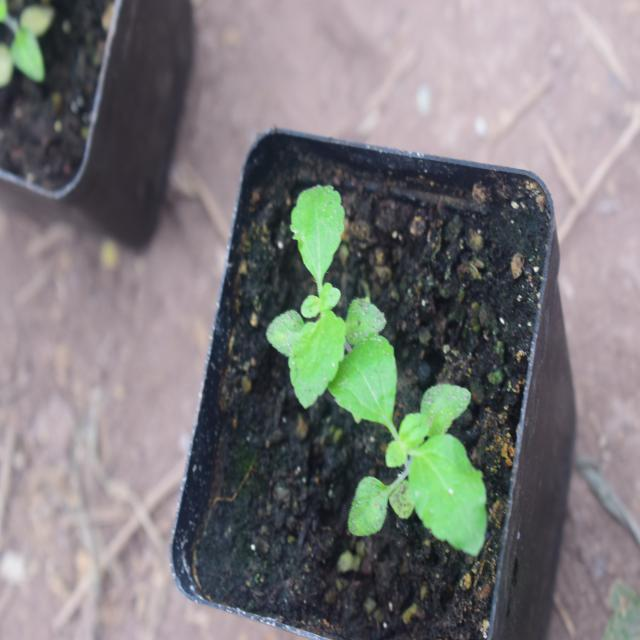billygoat_weed: (344, 321, 490, 554), (263, 195, 350, 423)
